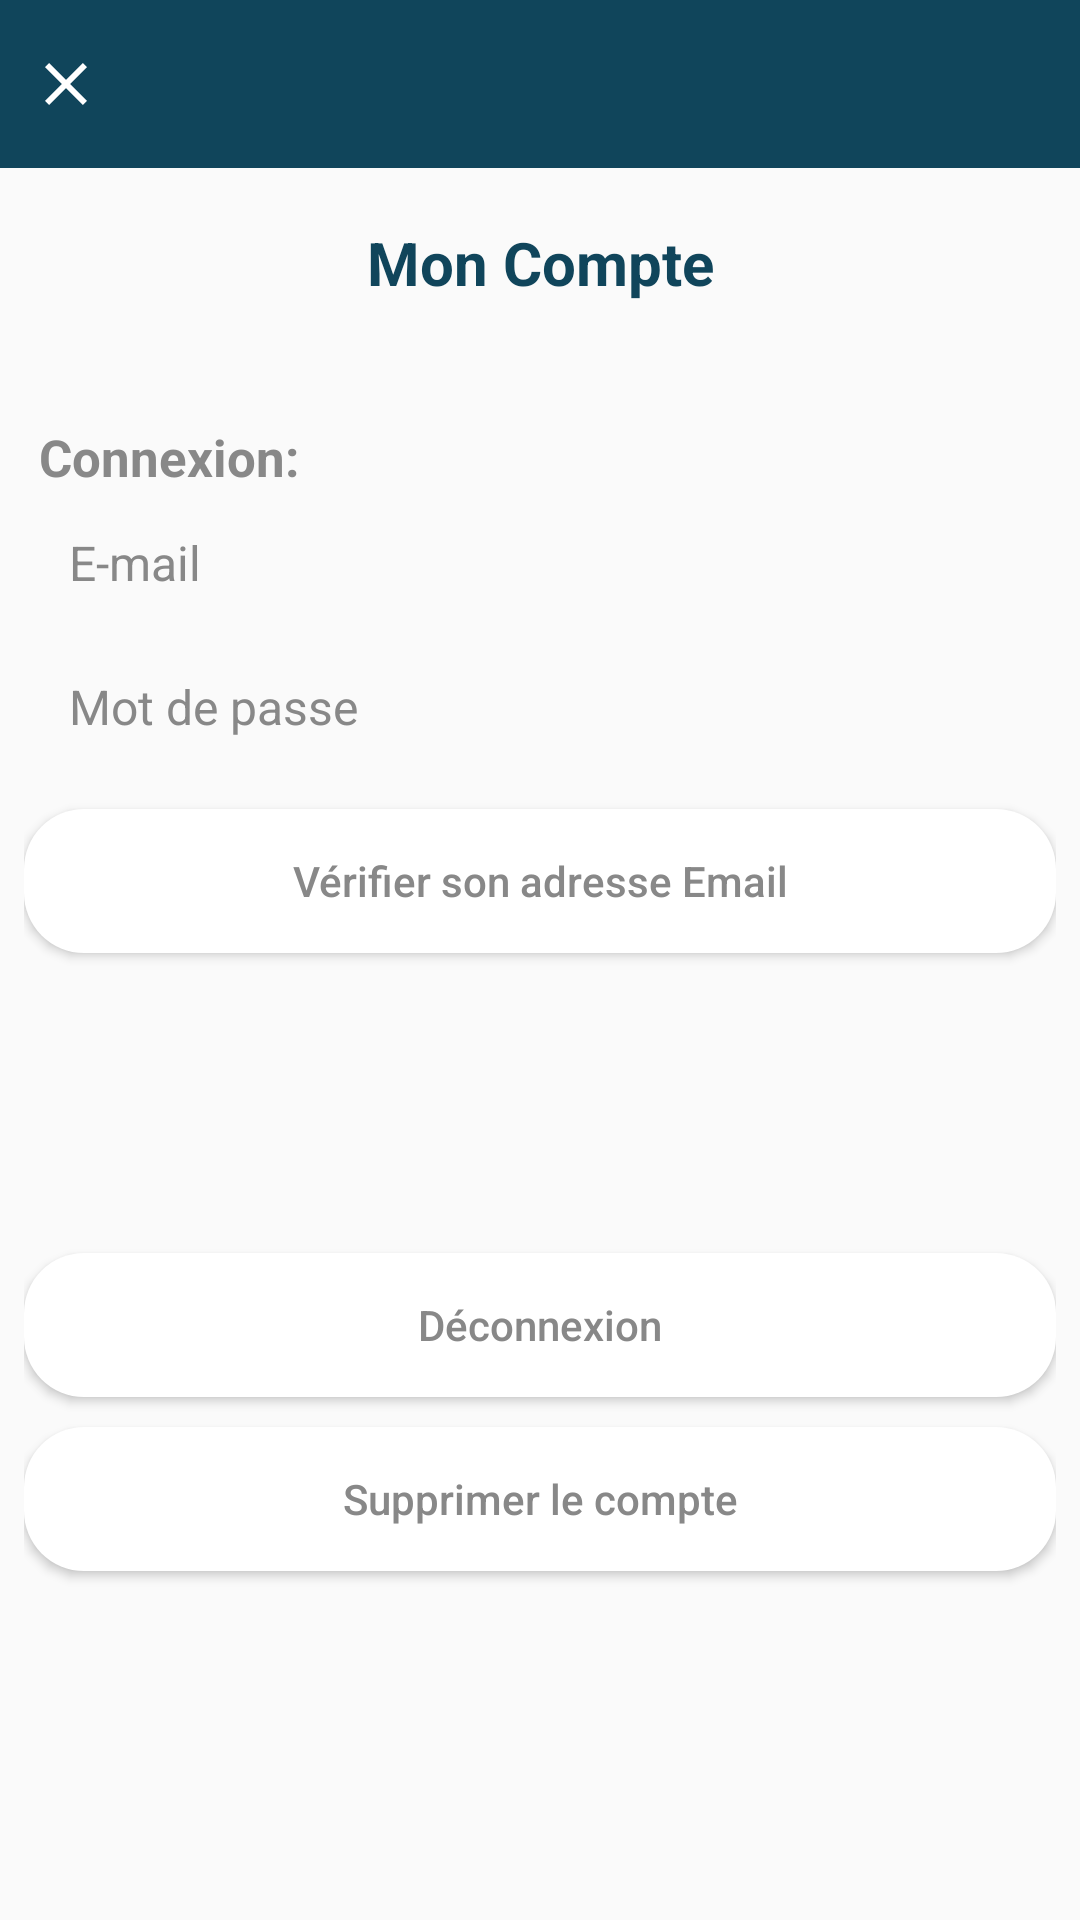

Named icons in this screenshot (1080×1920) and their bounding boxes, (x1, y1, x2, y2):
close: (45, 63, 87, 105)
